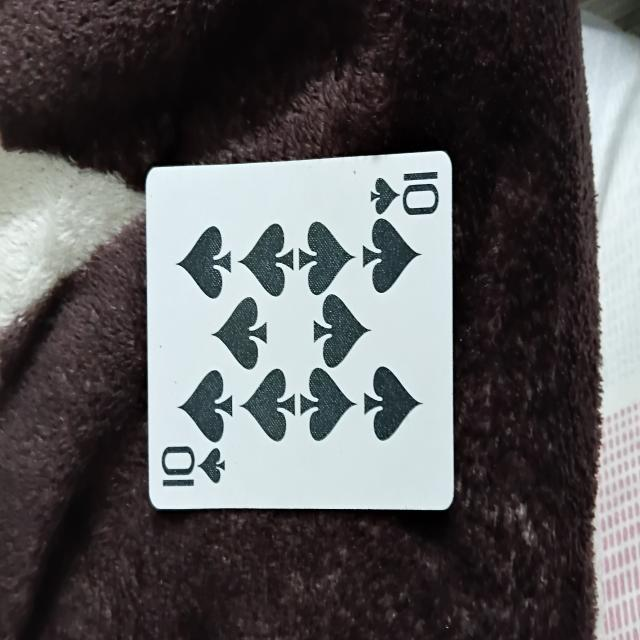10S: (146, 166, 458, 514)
